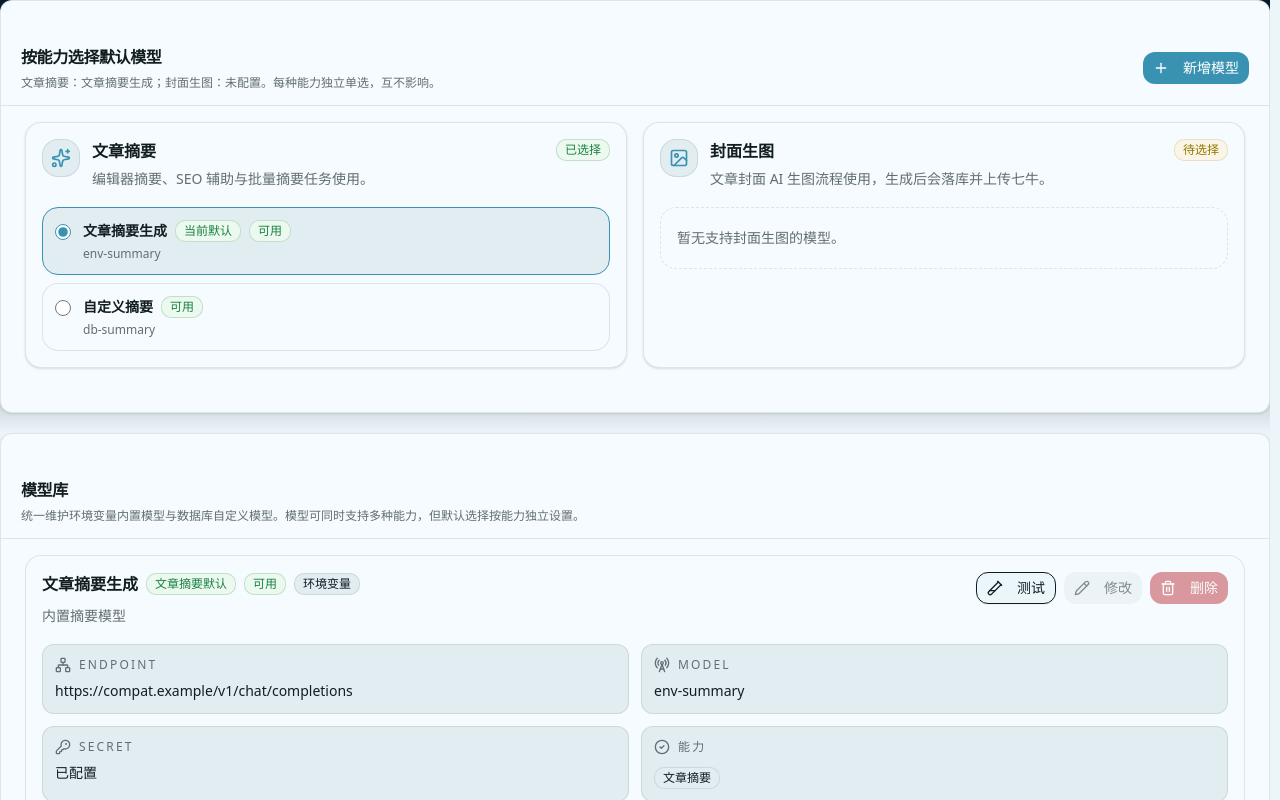
Test case: AiModelManager › switches the summary default model from the model list
Click the radio button with aria-label "选择 文章摘要 自定义摘要".
click(63, 308)  # box [55, 300, 71, 316]
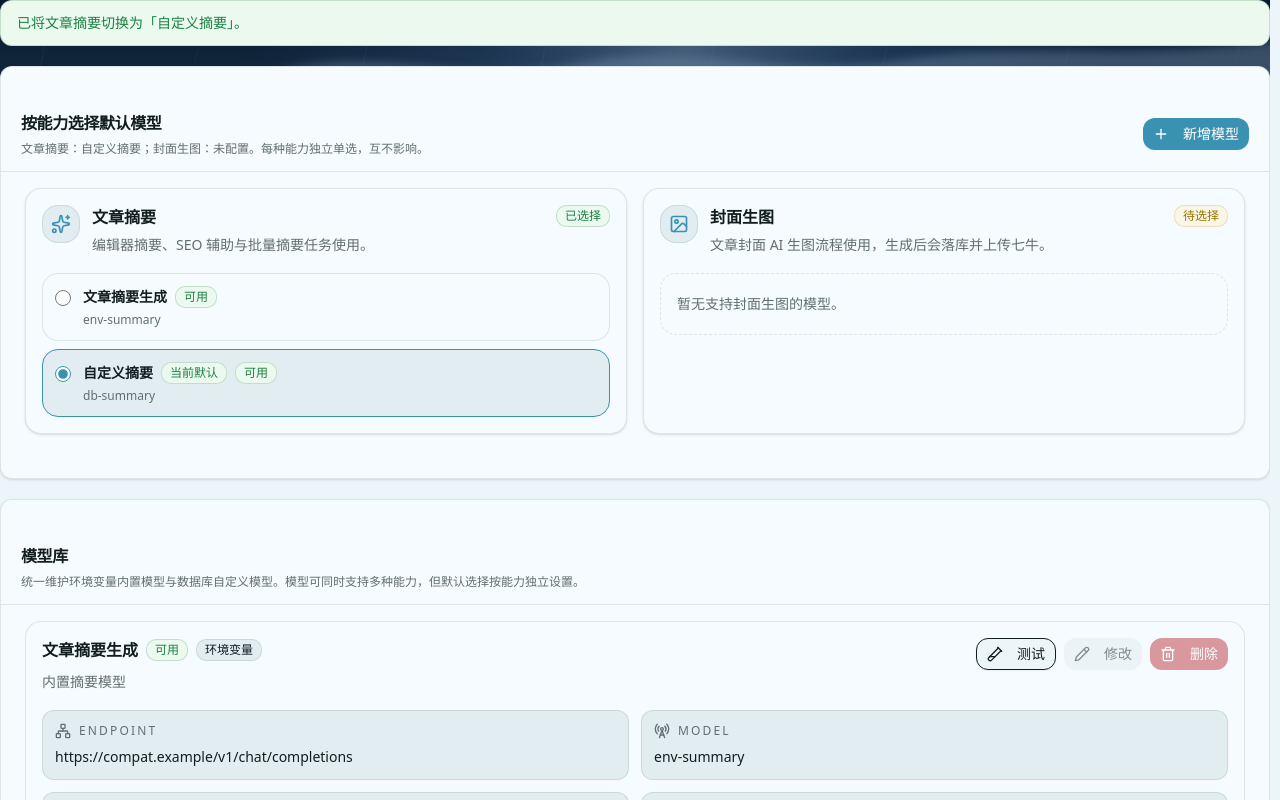
Result: the radio button with aria-label "选择 文章摘要 自定义摘要" is checked at [55, 366, 71, 382]
Result: the text "已将文章摘要切换为「自定义摘要」。" is shown at [0, 0, 1270, 46]
